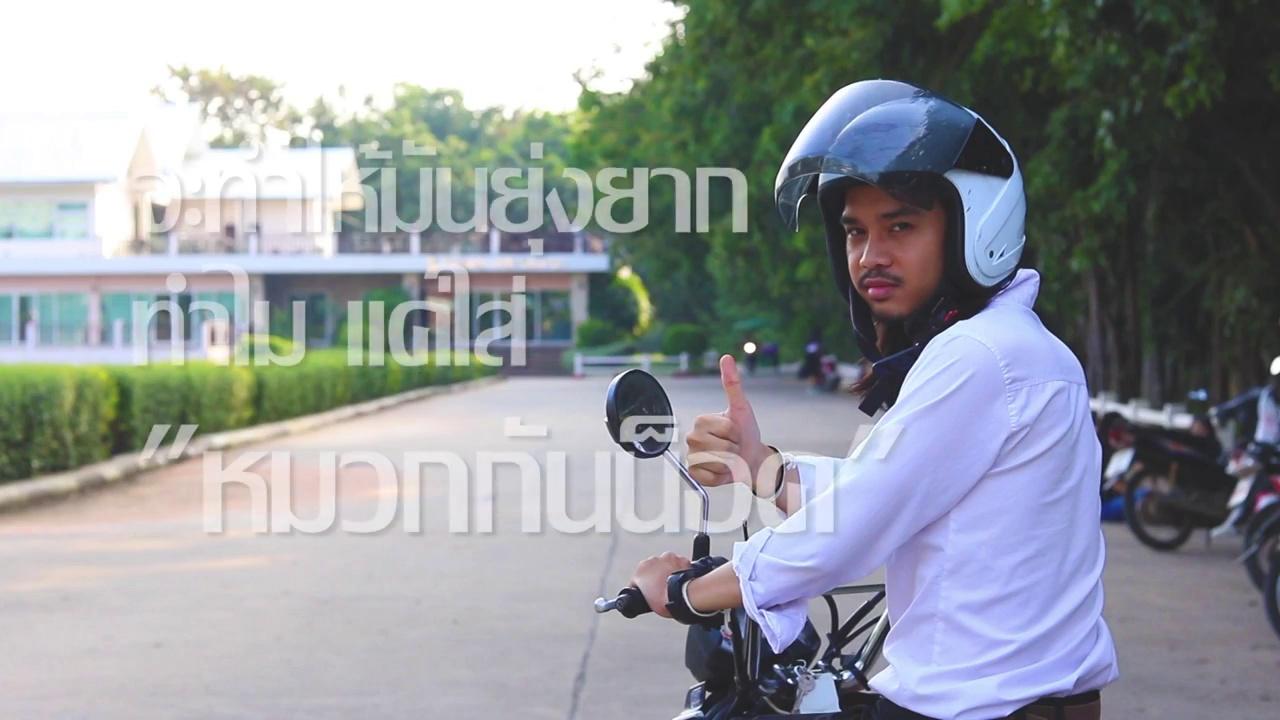helmet: (777, 87, 1032, 325)
